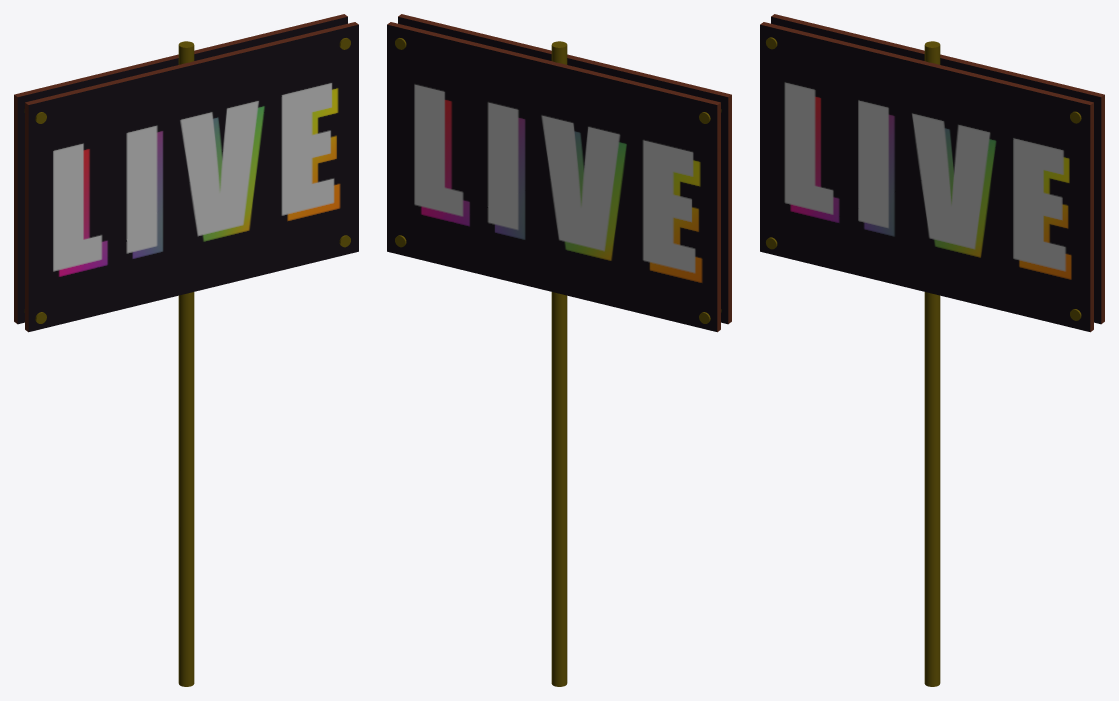
File: kanban.fbx
3 views of the same model, side by side, from view 1: azimuth 30°, elevation 25°; view 2: azimuth 150°, elevation 25°; view 3: azimuth 330°, elevation 25° (orthographic).
Visible parts, largest first — view 1: pCube2, pCylinder1, pCube1; view 2: pCube1, pCylinder1, pCube2; view 3: pCube2, pCylinder1, pCube1.
Part boxes in pixels (x1,y1,x2,y2): pCube2: (25, 22, 358, 332); pCylinder1: (178, 41, 194, 686); pCube1: (14, 14, 347, 324); pCube1: (387, 22, 720, 332); pCylinder1: (551, 41, 567, 686); pCube2: (398, 14, 731, 324); pCube2: (760, 22, 1093, 332); pCylinder1: (924, 41, 940, 686); pCube1: (771, 14, 1104, 324).
Bounding box in the file's own units: 3.83 × 7.08 × 0.3336.
